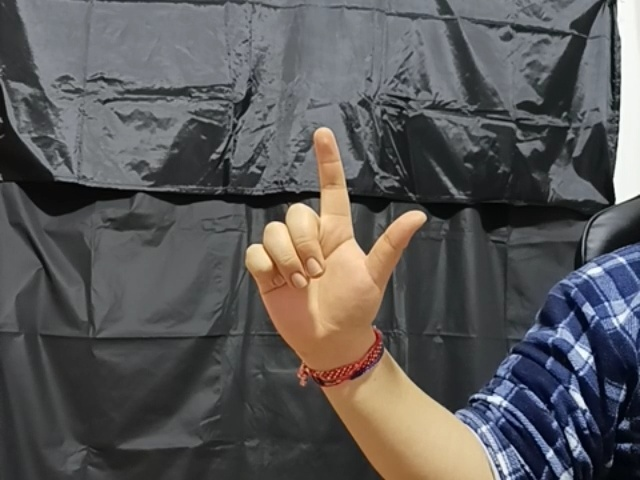L: (239, 126, 427, 348)
